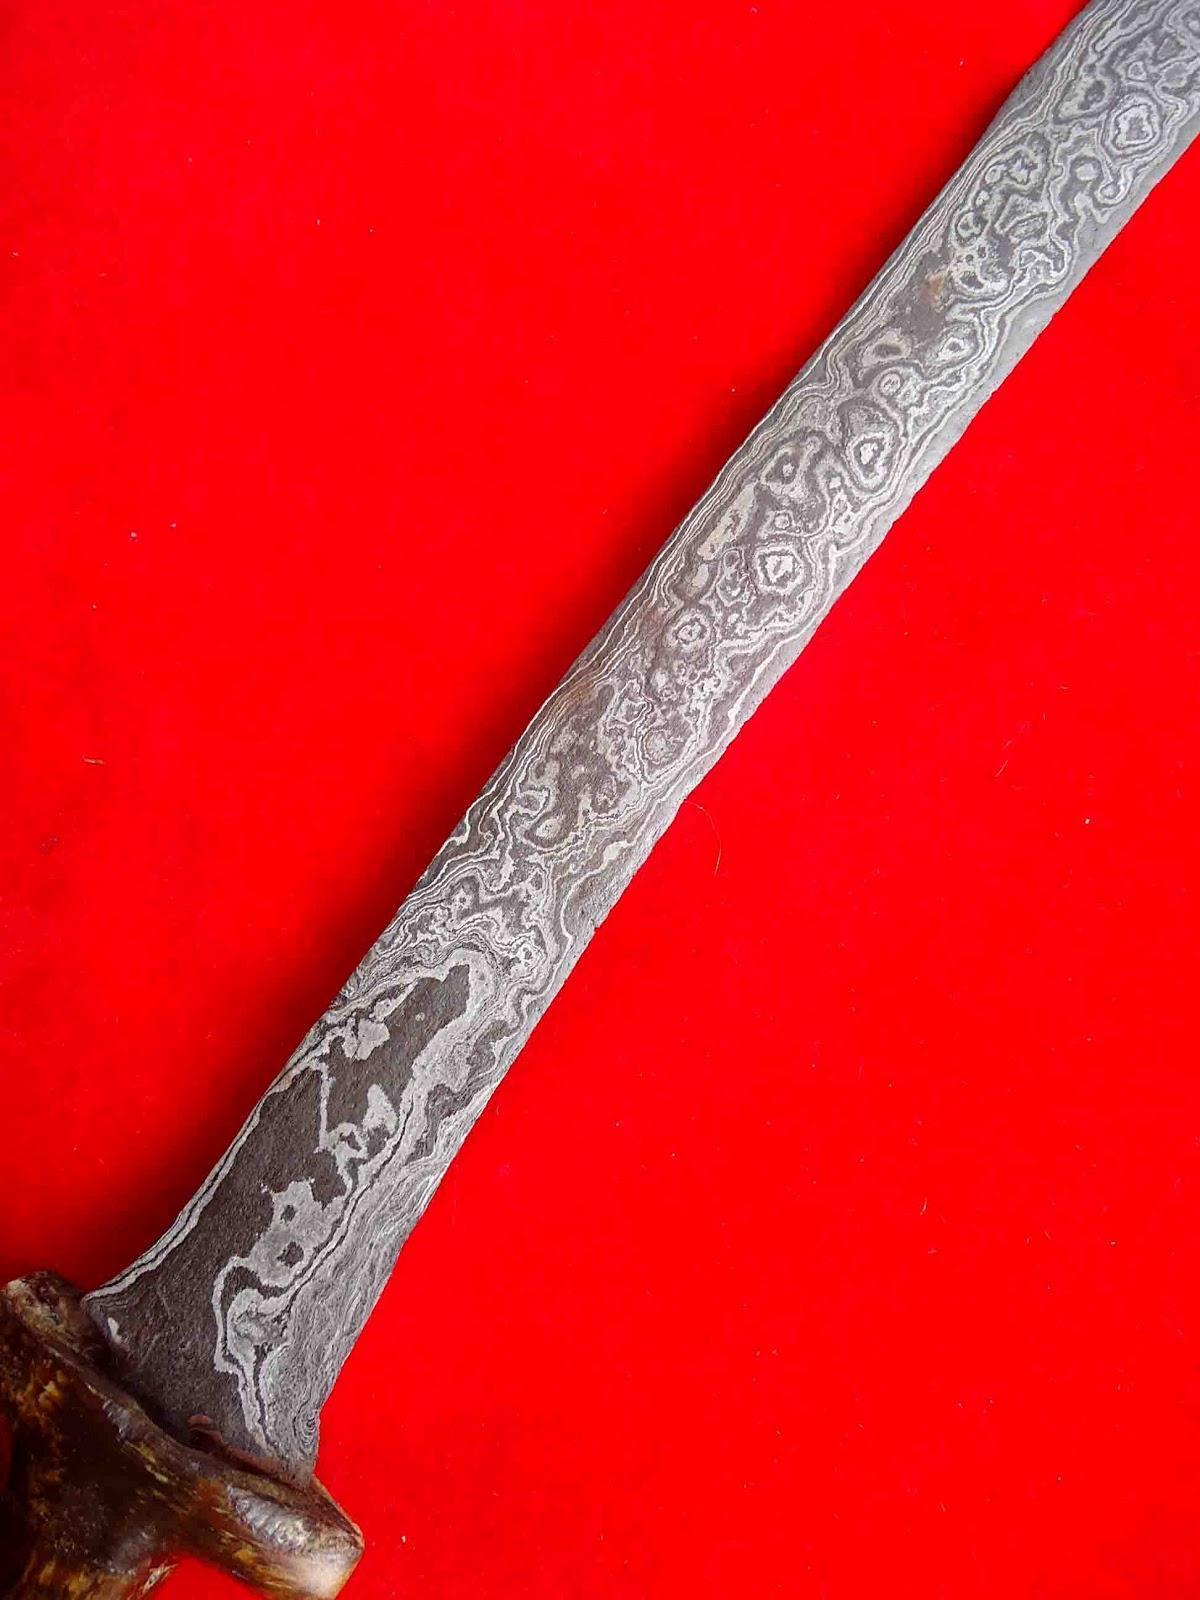espada: (5, 0, 1196, 1600)
